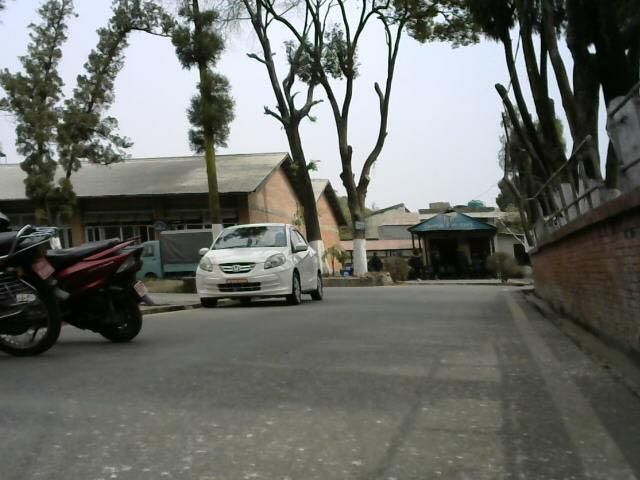Car: (188, 221, 315, 316)
Motorcycle: (61, 242, 176, 347), (0, 207, 66, 356)
Road: (134, 286, 640, 480)
Tree: (234, 0, 445, 224), (466, 3, 640, 177), (0, 2, 131, 199), (162, 0, 247, 227)
